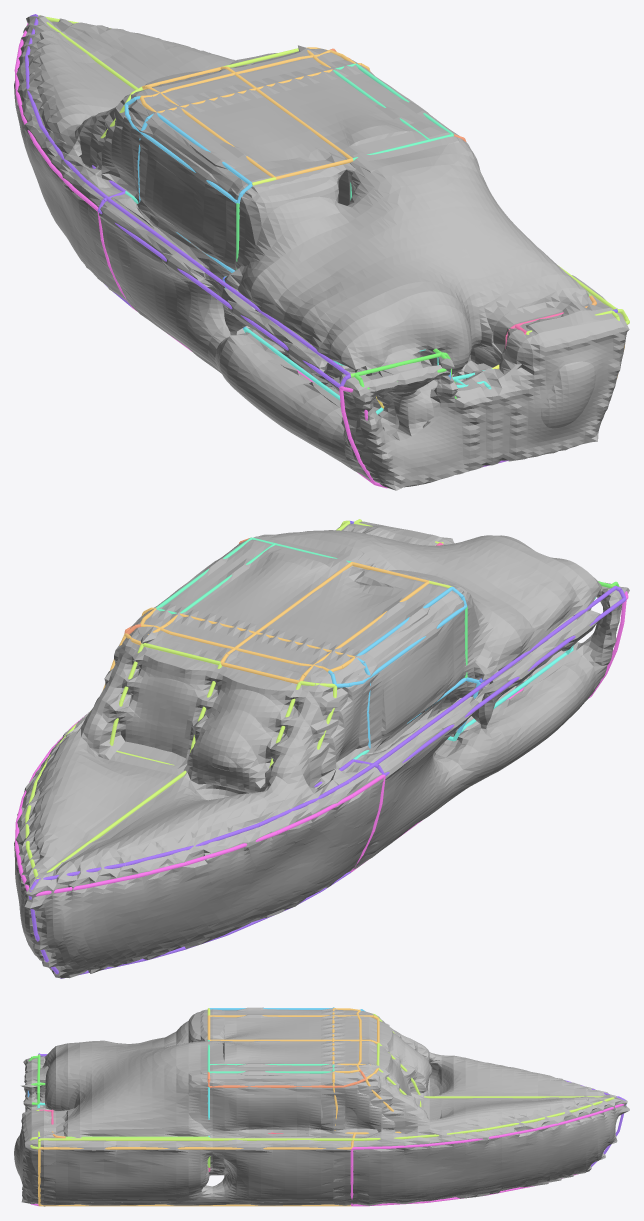
Rendered from flowrep_boat.gltf.
3 renders of one model, top to bottom at view 1: azimuth 30°, elevation 25°; view 2: azimuth 150°, elevation 25°; view 3: azimuth 270°, elevation 25°, orthographic. The views are drawn at different scales.
Size of the model in its own units: 0.3344 by 0.2597 by 0.9482.
